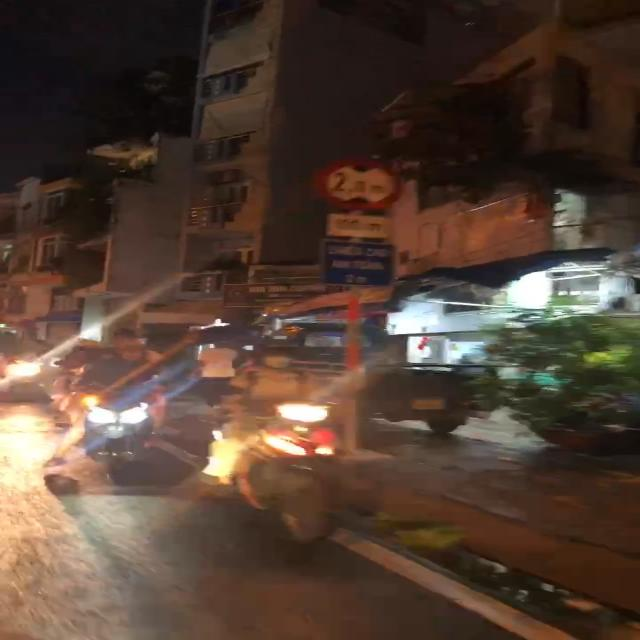Bien bao han che chieu cao: (316, 161, 406, 212)
